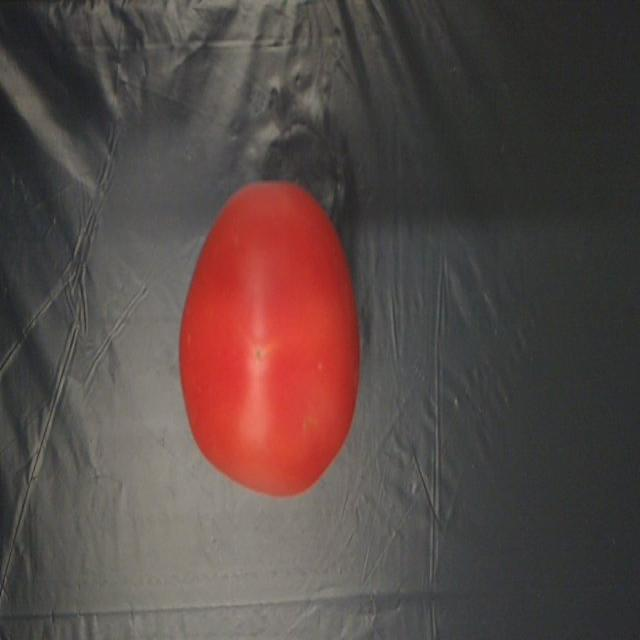kirmizi: (183, 156, 363, 497)
